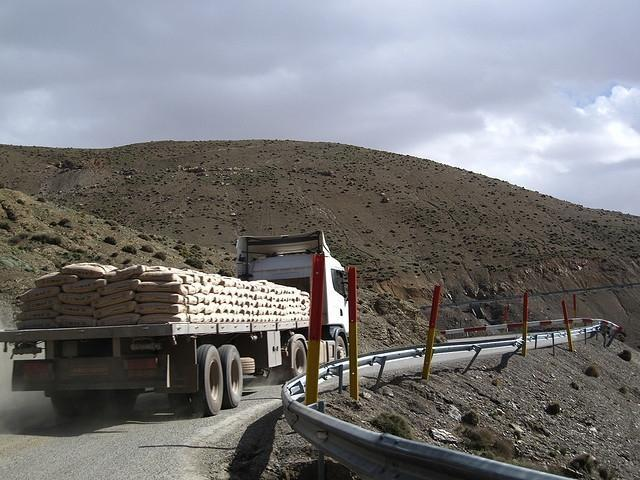truck: (6, 230, 350, 420)
